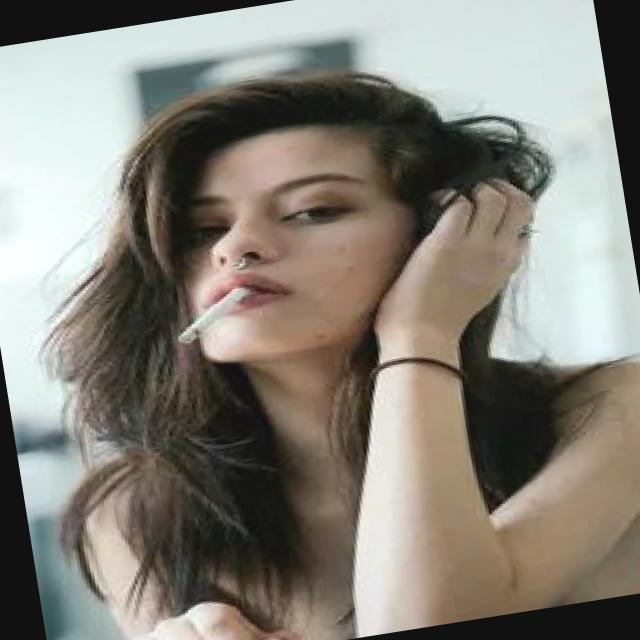cigarette: (165, 277, 270, 353)
